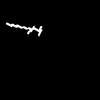double_crochet: (6, 23, 41, 34)
